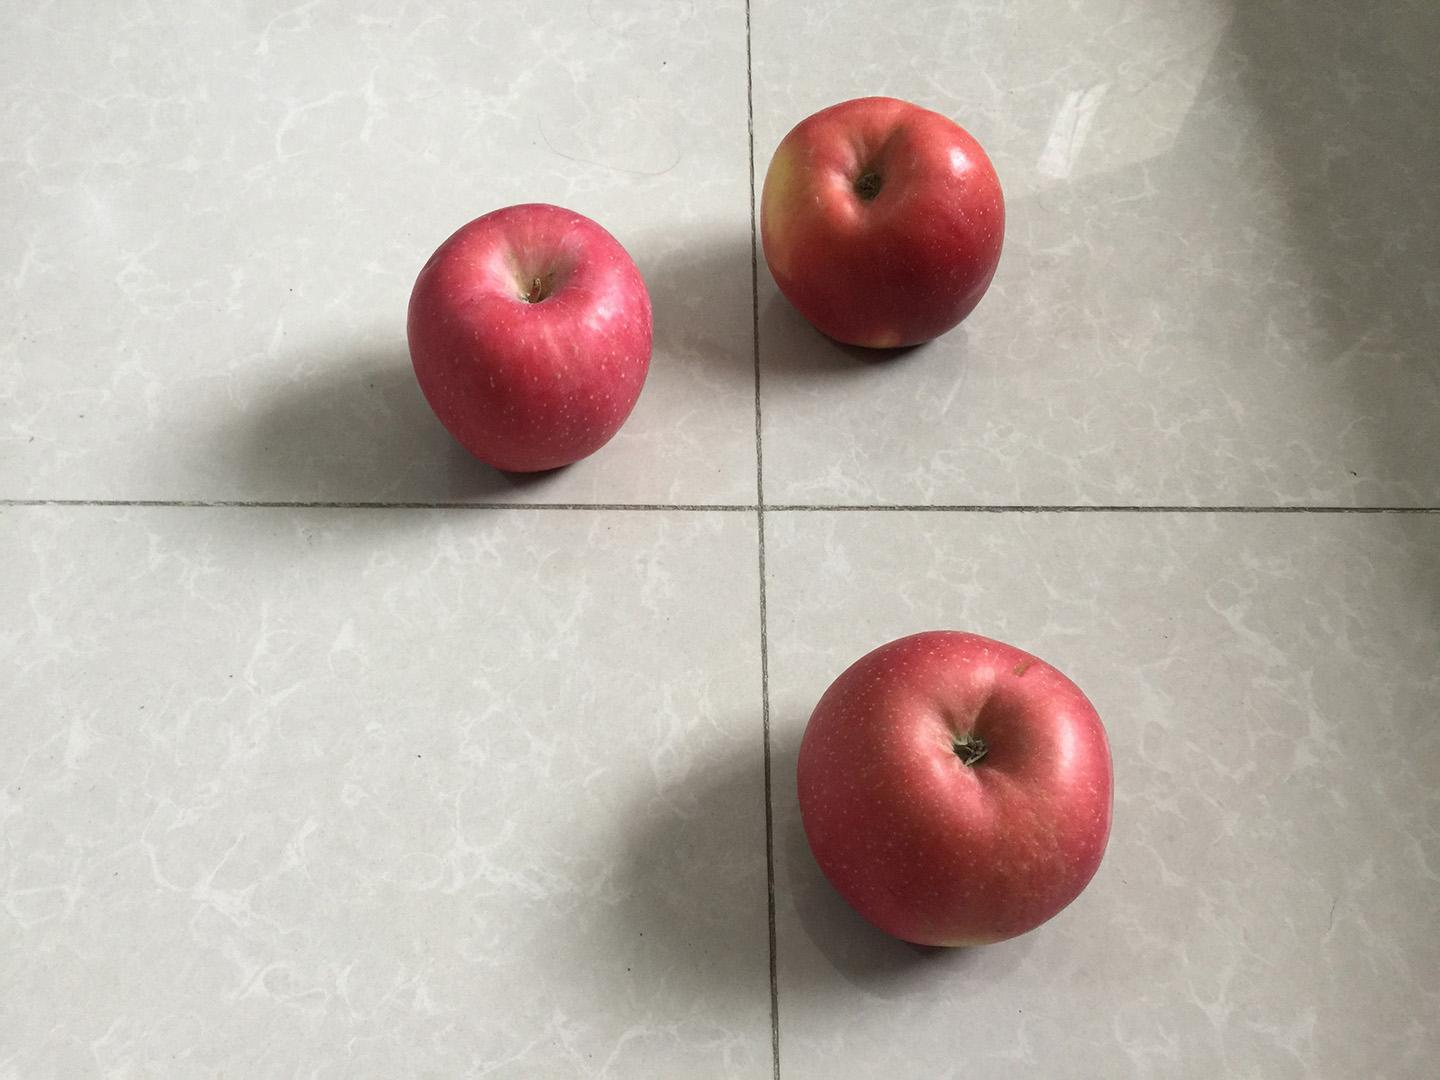apple: (791, 621, 1123, 956), (403, 197, 659, 479), (757, 93, 1013, 357)
